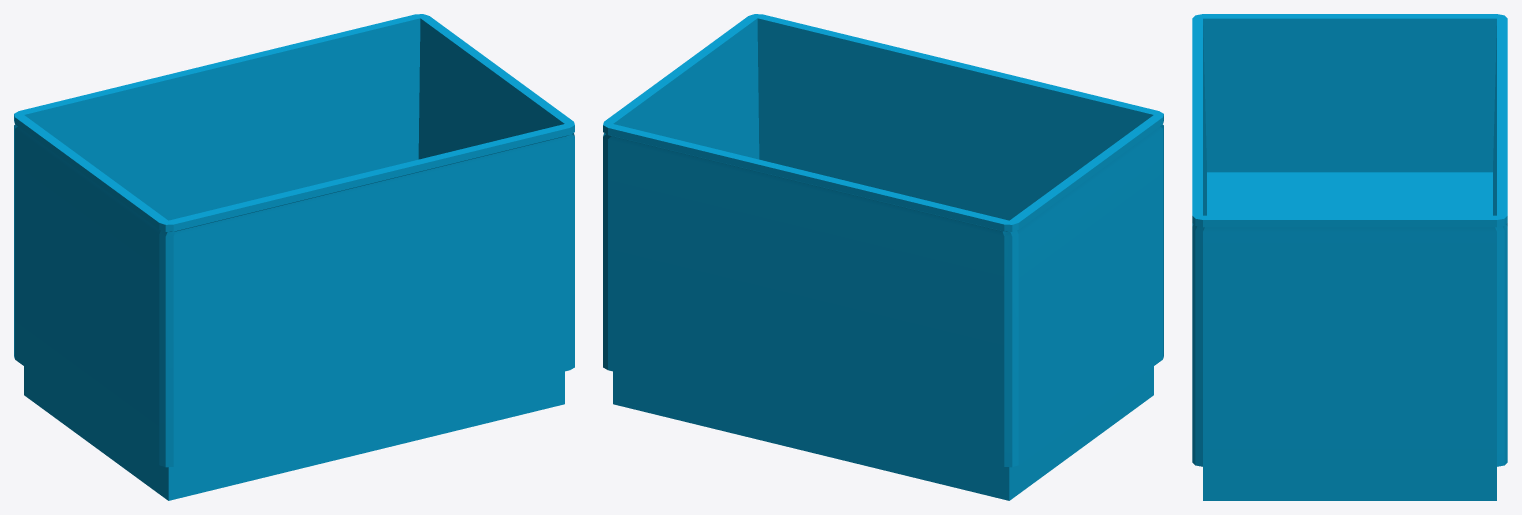
File: Shop_Fridge_02_Body_Lod0.fbx
3 views of the same model, side by side, from view 1: azimuth 30°, elevation 25°; view 2: azimuth 150°, elevation 25°; view 3: azimuth 270°, elevation 25° (orthographic).
Parts seen in each view (by area): view 1: Shop_Fridge_02_Body_Lod0; view 2: Shop_Fridge_02_Body_Lod0; view 3: Shop_Fridge_02_Body_Lod0.
Part boxes in pixels (x1,y1,x2,y2): Shop_Fridge_02_Body_Lod0: (14, 14, 574, 500); Shop_Fridge_02_Body_Lod0: (603, 14, 1163, 500); Shop_Fridge_02_Body_Lod0: (1192, 14, 1507, 500).
Size of the model in its own units: 137 by 88.82 by 89.
